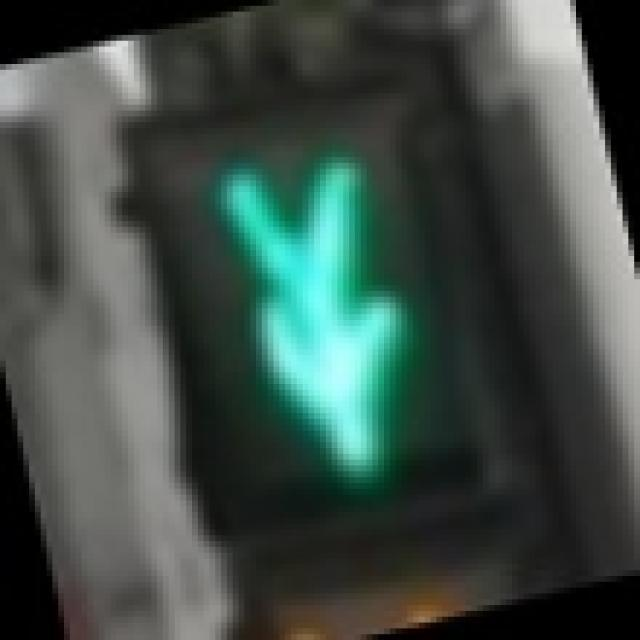green_light: (128, 75, 500, 552)
